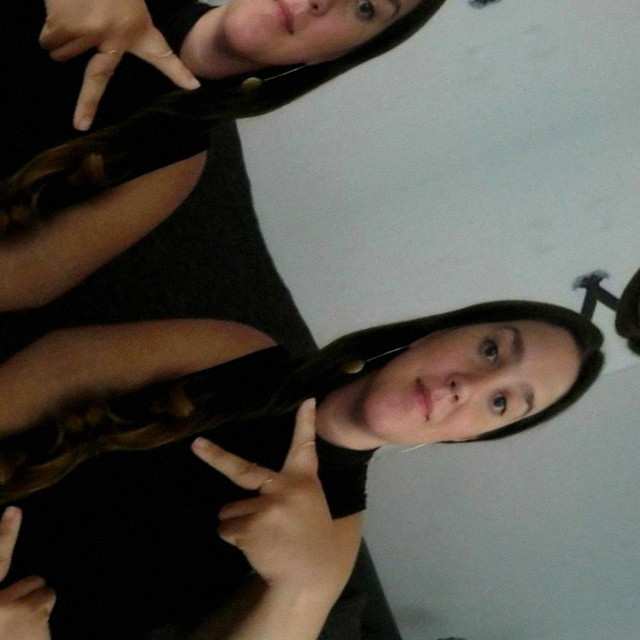Scissors: (6, 0, 203, 139)
